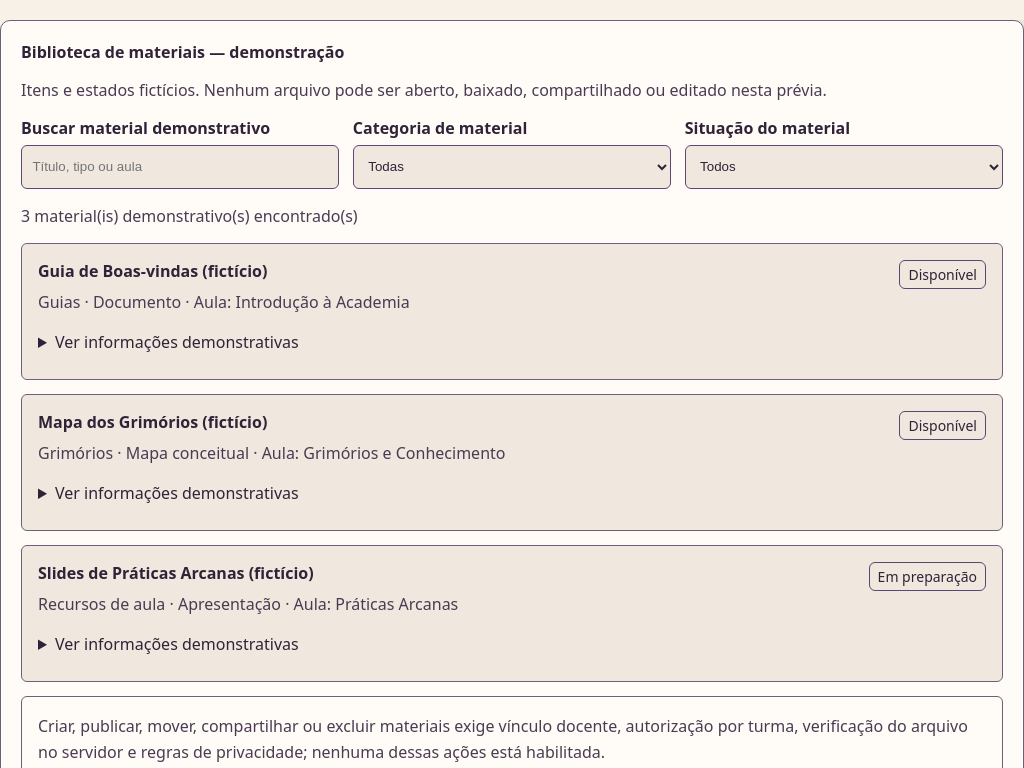
Test: Professor → Turma A → Conteúdos e Materiais (prévia) › filters by category and status without requesting external data
Select "Grimórios" in the dropdown labelled "Categoria de material" at (512, 167), box [353,145,671,189]
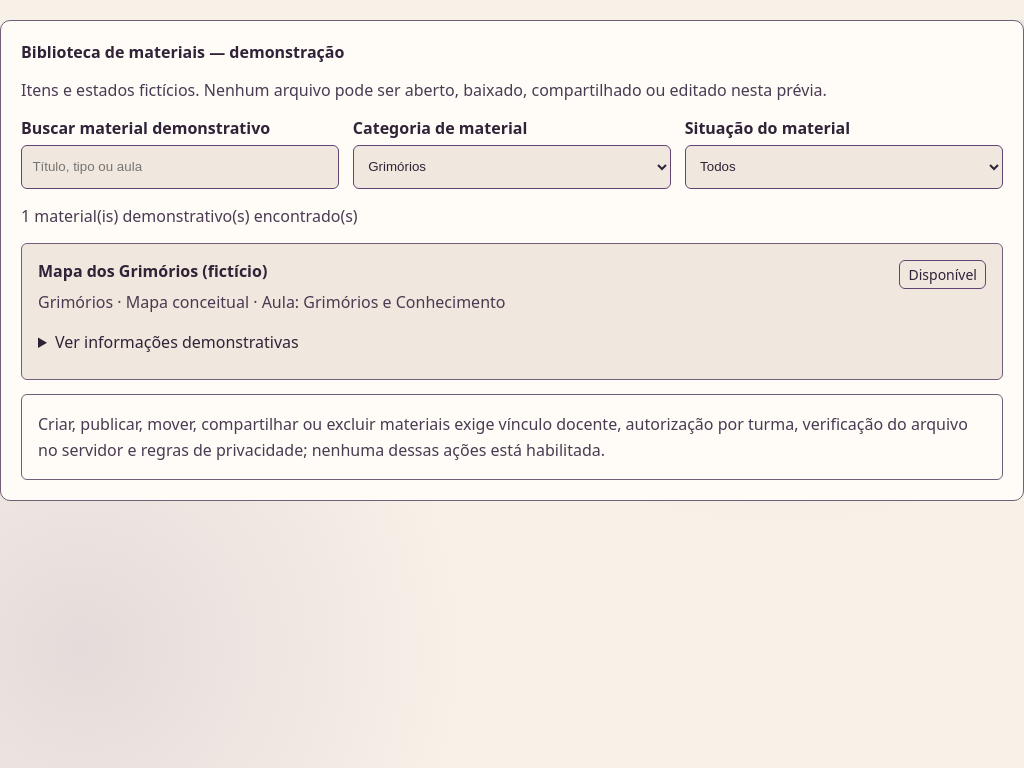
Result: the text "1 material(is) demonstrativo(s) encontrado(s)" is shown at [21,205,358,227]
Result: the text "Guia de Boas-vindas (fictício)" is gone
Select "Em preparação" in the dropdown labelled "Situação do material" at (844, 167), box [685,145,1003,189]
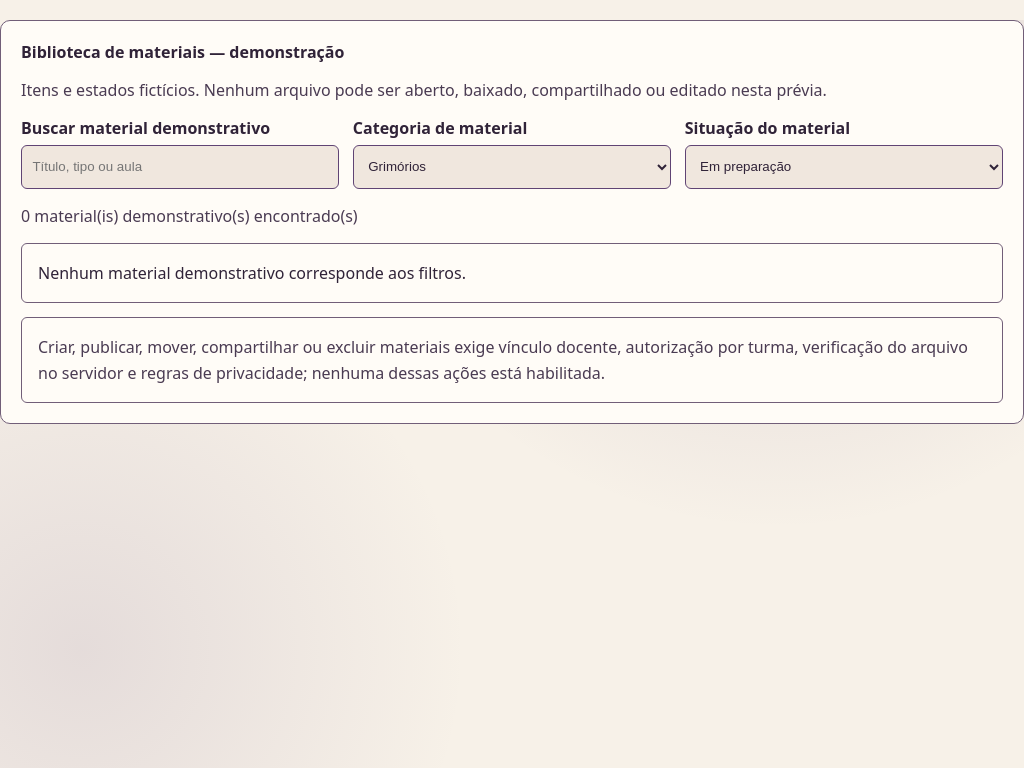
Result: the text "Nenhum material demonstrativo corresponde aos filtros." is shown at [21,242,1003,303]
